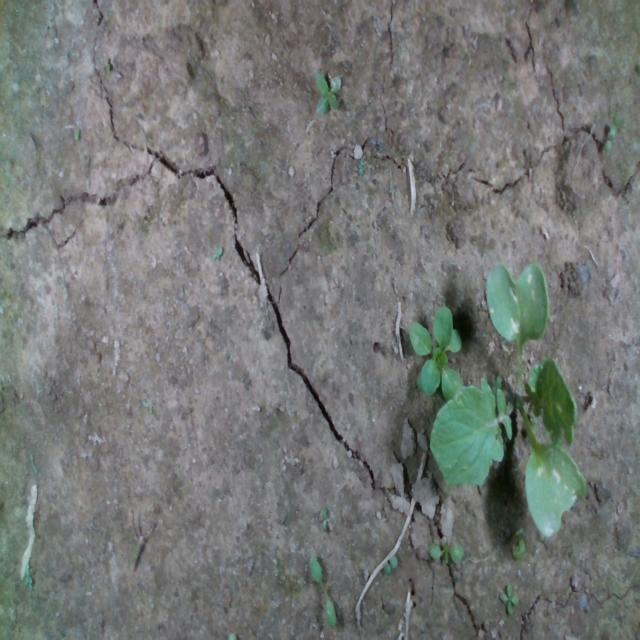weed: (314, 66, 344, 115), (428, 535, 464, 565), (499, 582, 520, 614), (382, 553, 400, 573), (210, 243, 226, 261)
